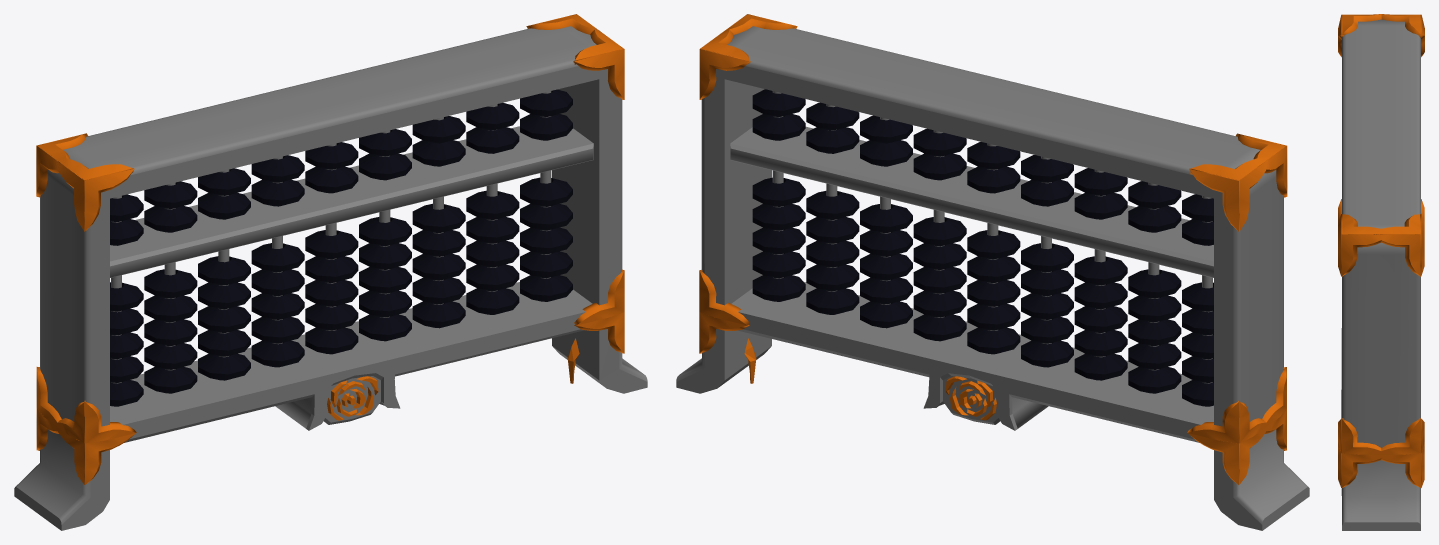
The model's file is yhh.fbx.
3 renders of one model, left to right at view 1: azimuth 30°, elevation 25°; view 2: azimuth 150°, elevation 25°; view 3: azimuth 270°, elevation 25°, orthographic. The views are drawn at different scales.
Visible parts, largest first — view 1: Cylinder001, r, w1; view 2: Cylinder001, r, w1; view 3: Cylinder001, w1.
Part boxes in pixels (x1,y1,x2,y2): Cylinder001: (14,26,647,530); r: (110,89,572,406); w1: (36,14,624,484); Cylinder001: (676,26,1309,530); r: (752,89,1213,406); w1: (699,14,1287,484); Cylinder001: (1341,19,1420,530); w1: (1338,14,1424,487).
Size of the model in its own units: 121 by 68.99 by 18.72.
